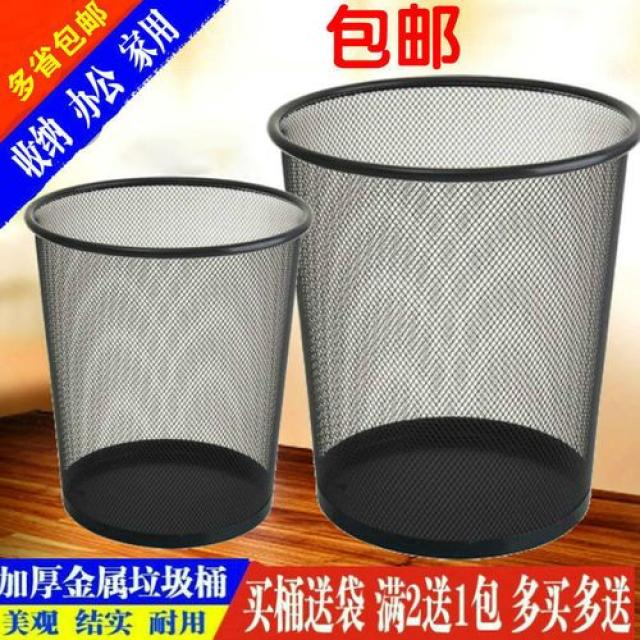dustbin: (263, 69, 640, 565), (25, 170, 314, 549)
